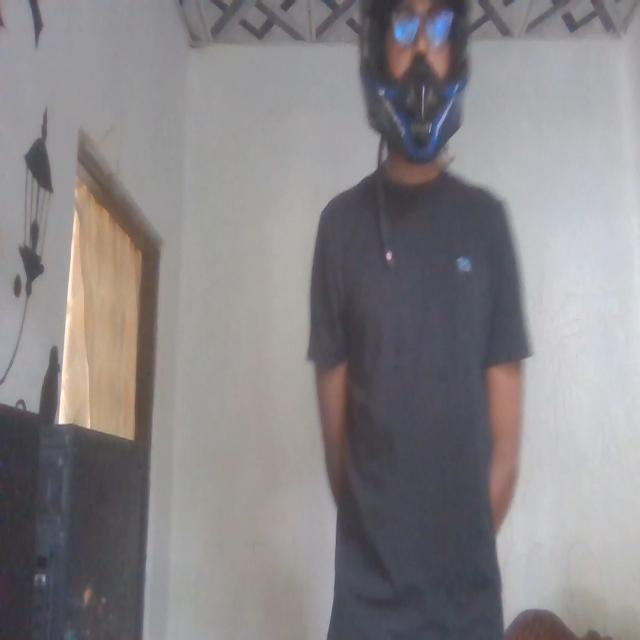Helmet_Wearer: (360, 0, 471, 173)
Person: (311, 0, 525, 640)
